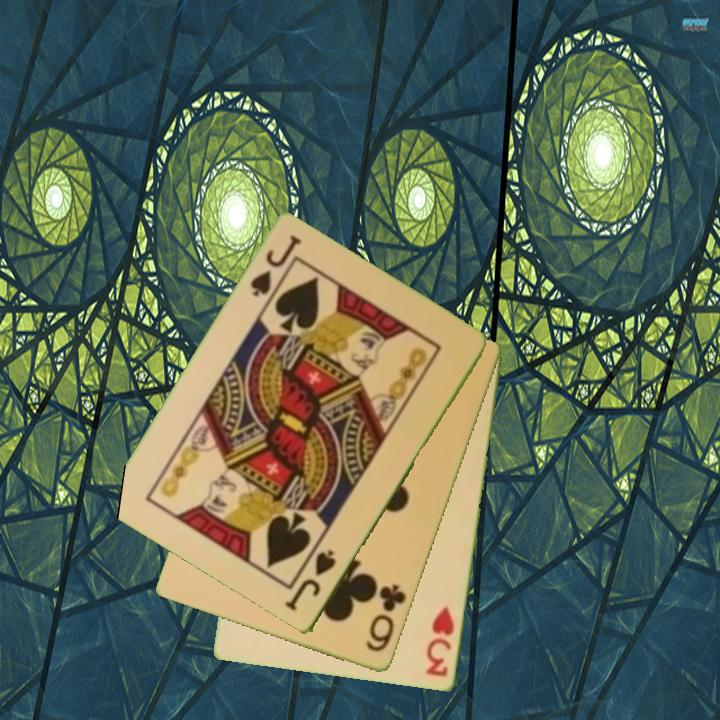3h: (422, 603, 457, 681)
6c: (362, 581, 409, 655)
Js: (246, 231, 305, 301), (284, 546, 340, 615)
